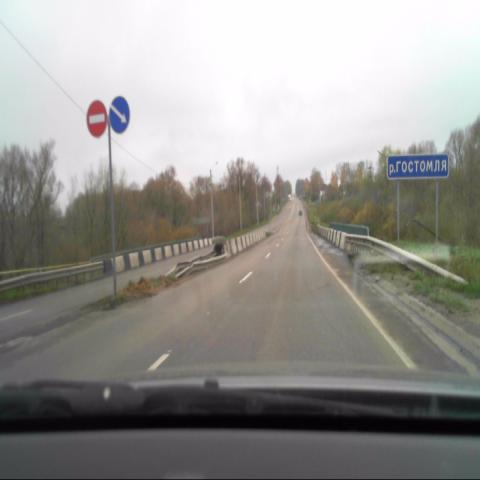3_1: (87, 101, 108, 140)
4_2_1: (109, 98, 129, 135)
